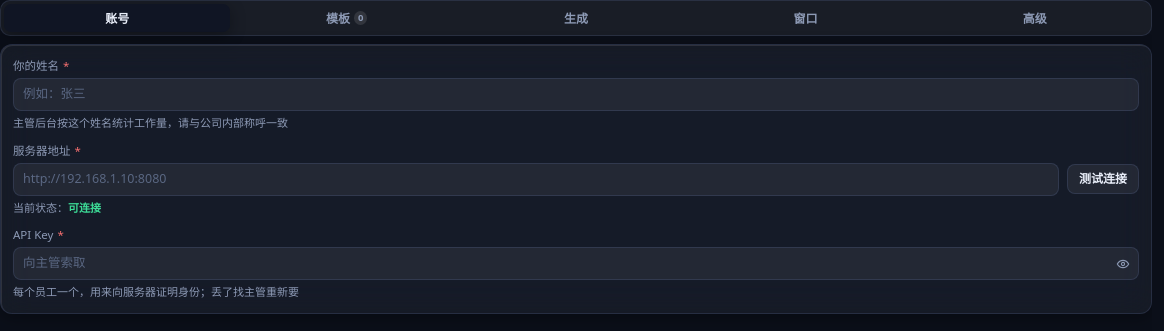
Test case: SettingsPanel（拆分后） › 默认落在账号分组，切换到模板分组渲染上传区
Check: the password field with placeholder "向主管索取" is shown, box [13,247,1139,280]
Click the tab "模板 0" at (347, 18), box [233,4,460,32]
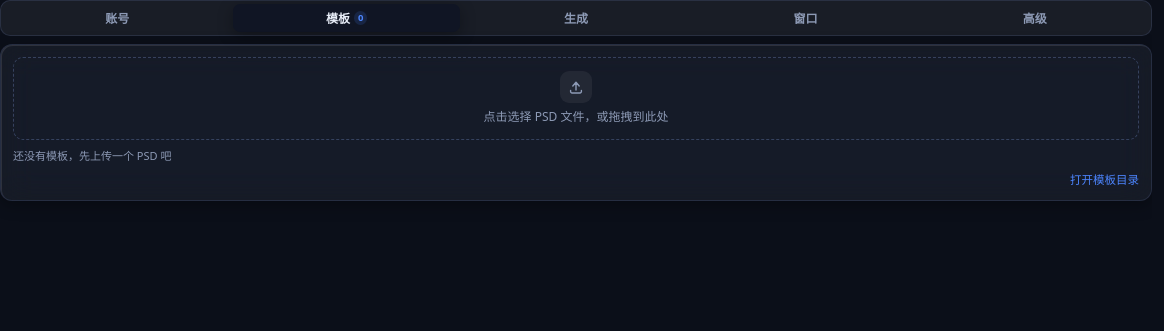
Check: the button with class "dropzone" is shown, box [13,57,1139,140]
Check: the text "点击选择 PSD 文件，或拖拽到此处" is shown, box [484,108,668,126]
